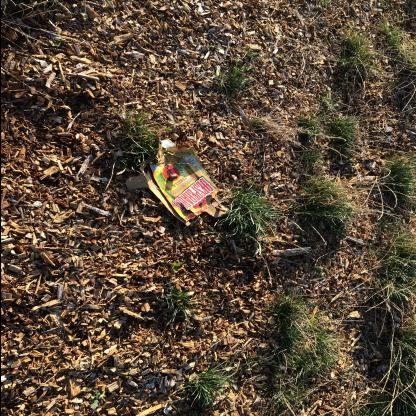karton: (125, 138, 227, 227)
